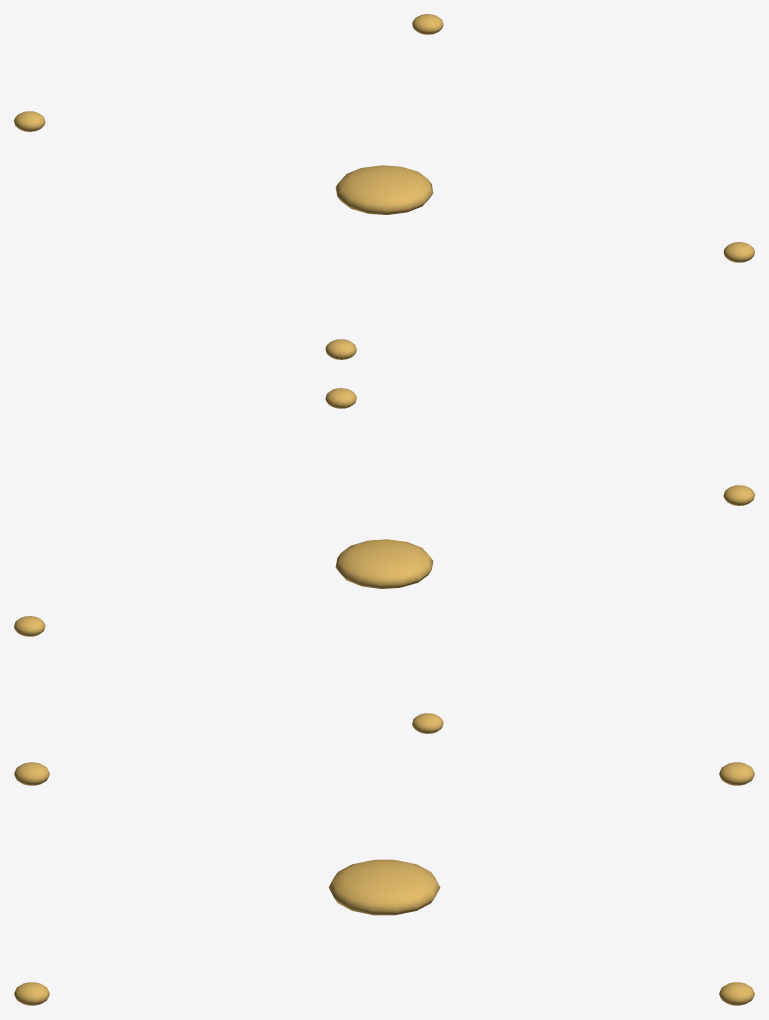
The model's file is KRM_M33_P5MODC_gilt_rosettes.fbx.
3 views of the same model, one above another, from view 1: azimuth 30°, elevation 25°; view 2: azimuth 150°, elevation 25°; view 3: azimuth 270°, elevation 25° (orthographic). The views are drawn at different scales.
Parts seen in each view (by area): view 1: KRM_M33_P5MODC_gilt_rosettes; view 2: KRM_M33_P5MODC_gilt_rosettes; view 3: KRM_M33_P5MODC_gilt_rosettes.
Boxes of the visible parts, x1,y1,x2,y2 form: KRM_M33_P5MODC_gilt_rosettes: [14, 14, 754, 359]; KRM_M33_P5MODC_gilt_rosettes: [14, 388, 754, 733]; KRM_M33_P5MODC_gilt_rosettes: [14, 762, 754, 1005].
Bounding box in the file's own units: 139 × 9 × 185.
1 material, 1 textured.
